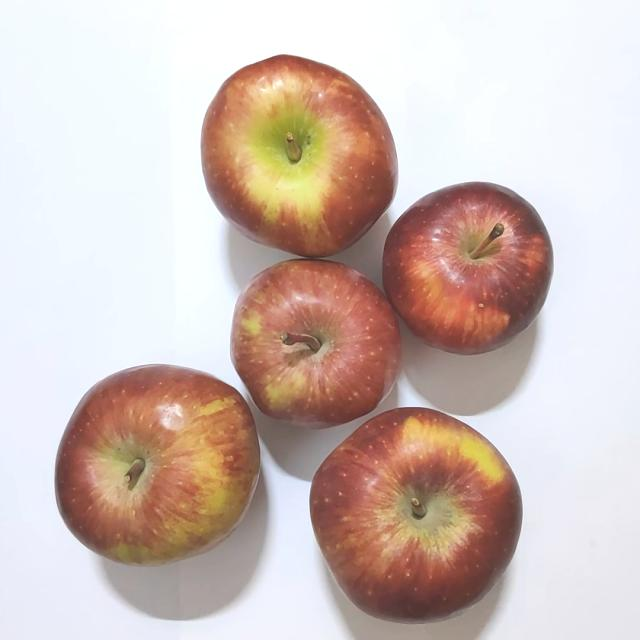apple: (298, 409, 516, 629), (188, 60, 399, 282), (54, 360, 262, 580), (370, 183, 558, 369), (222, 257, 406, 437)
